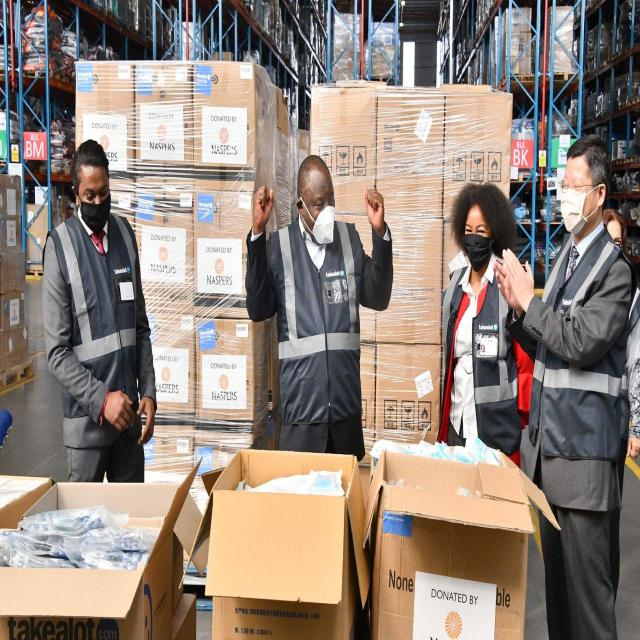Mask: (462, 233, 495, 273), (310, 207, 339, 249), (560, 189, 586, 231), (80, 201, 109, 236)
